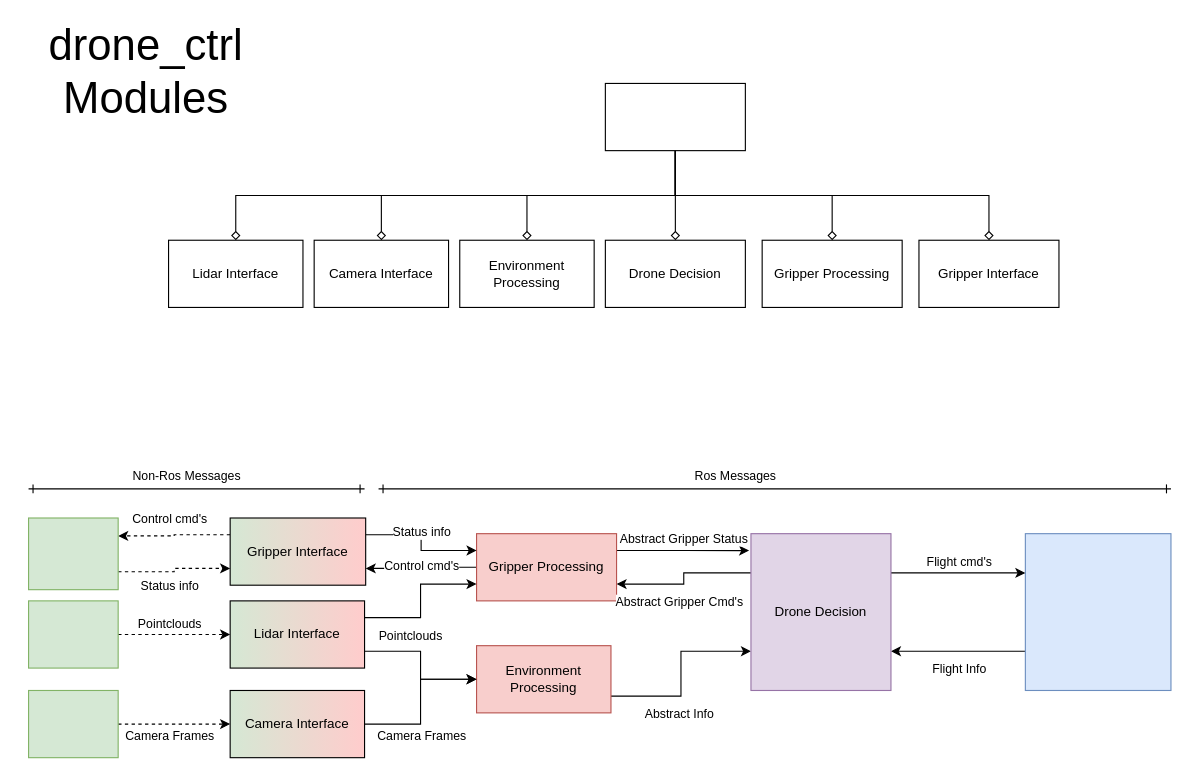
Some shapes in this 1201 by 777 pixel diagram are drawn without their labels. The shapes that lost their labels are listed below. From the top down, each one's centre as x and y in pixels, then its label:
At (x=674, y=116): "Abstract Module".
At (x=72, y=553): "Gripper".
At (x=1097, y=611): "DJI ROS SDK Node".
At (x=72, y=634): "Lidar".
At (x=72, y=723): "Camera".
